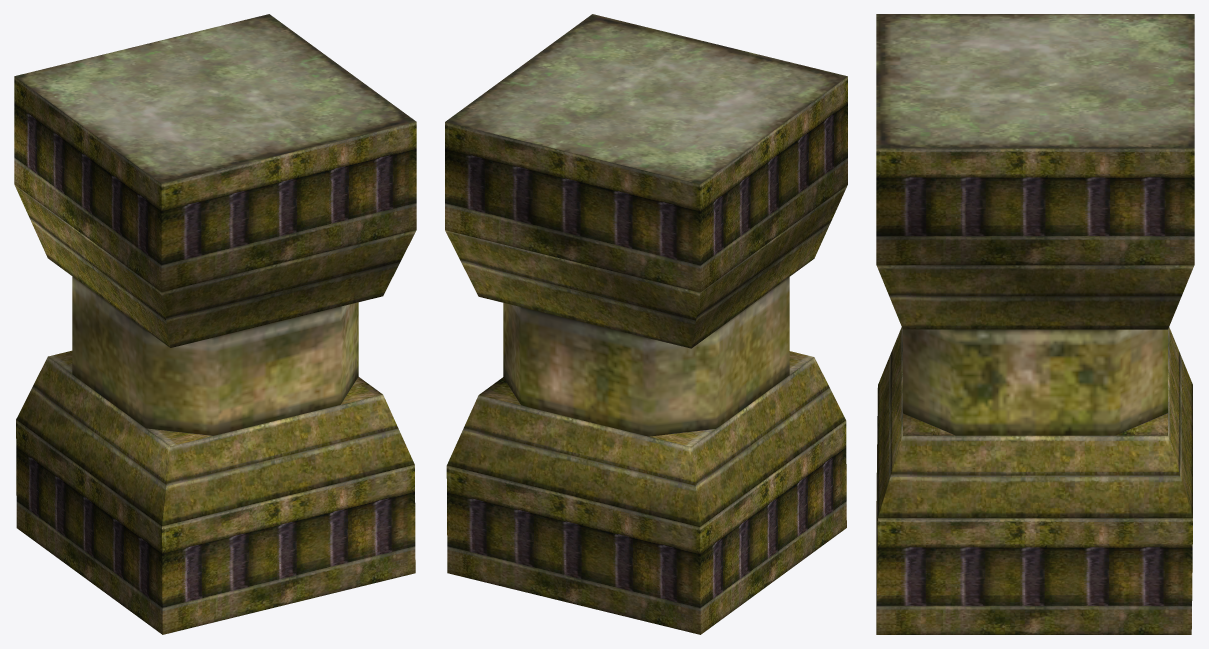
The model's file is OVERHILL_A_01_OBJECT252.fbx.
3 views of the same model, side by side, from view 1: azimuth 30°, elevation 25°; view 2: azimuth 150°, elevation 25°; view 3: azimuth 270°, elevation 25° (orthographic). The views are drawn at different scales.
Parts seen in each view (by area): view 1: OVERHILL_A_01_OBJECT252; view 2: OVERHILL_A_01_OBJECT252; view 3: OVERHILL_A_01_OBJECT252.
Boxes of the visible parts, <box> form: OVERHILL_A_01_OBJECT252: <box>14,14,416,634</box>; OVERHILL_A_01_OBJECT252: <box>445,14,847,634</box>; OVERHILL_A_01_OBJECT252: <box>876,14,1194,634</box>.
Bounding box in the file's own units: 18045 × 30501 × 18045.
Materials: 5 (5 with a texture image).
